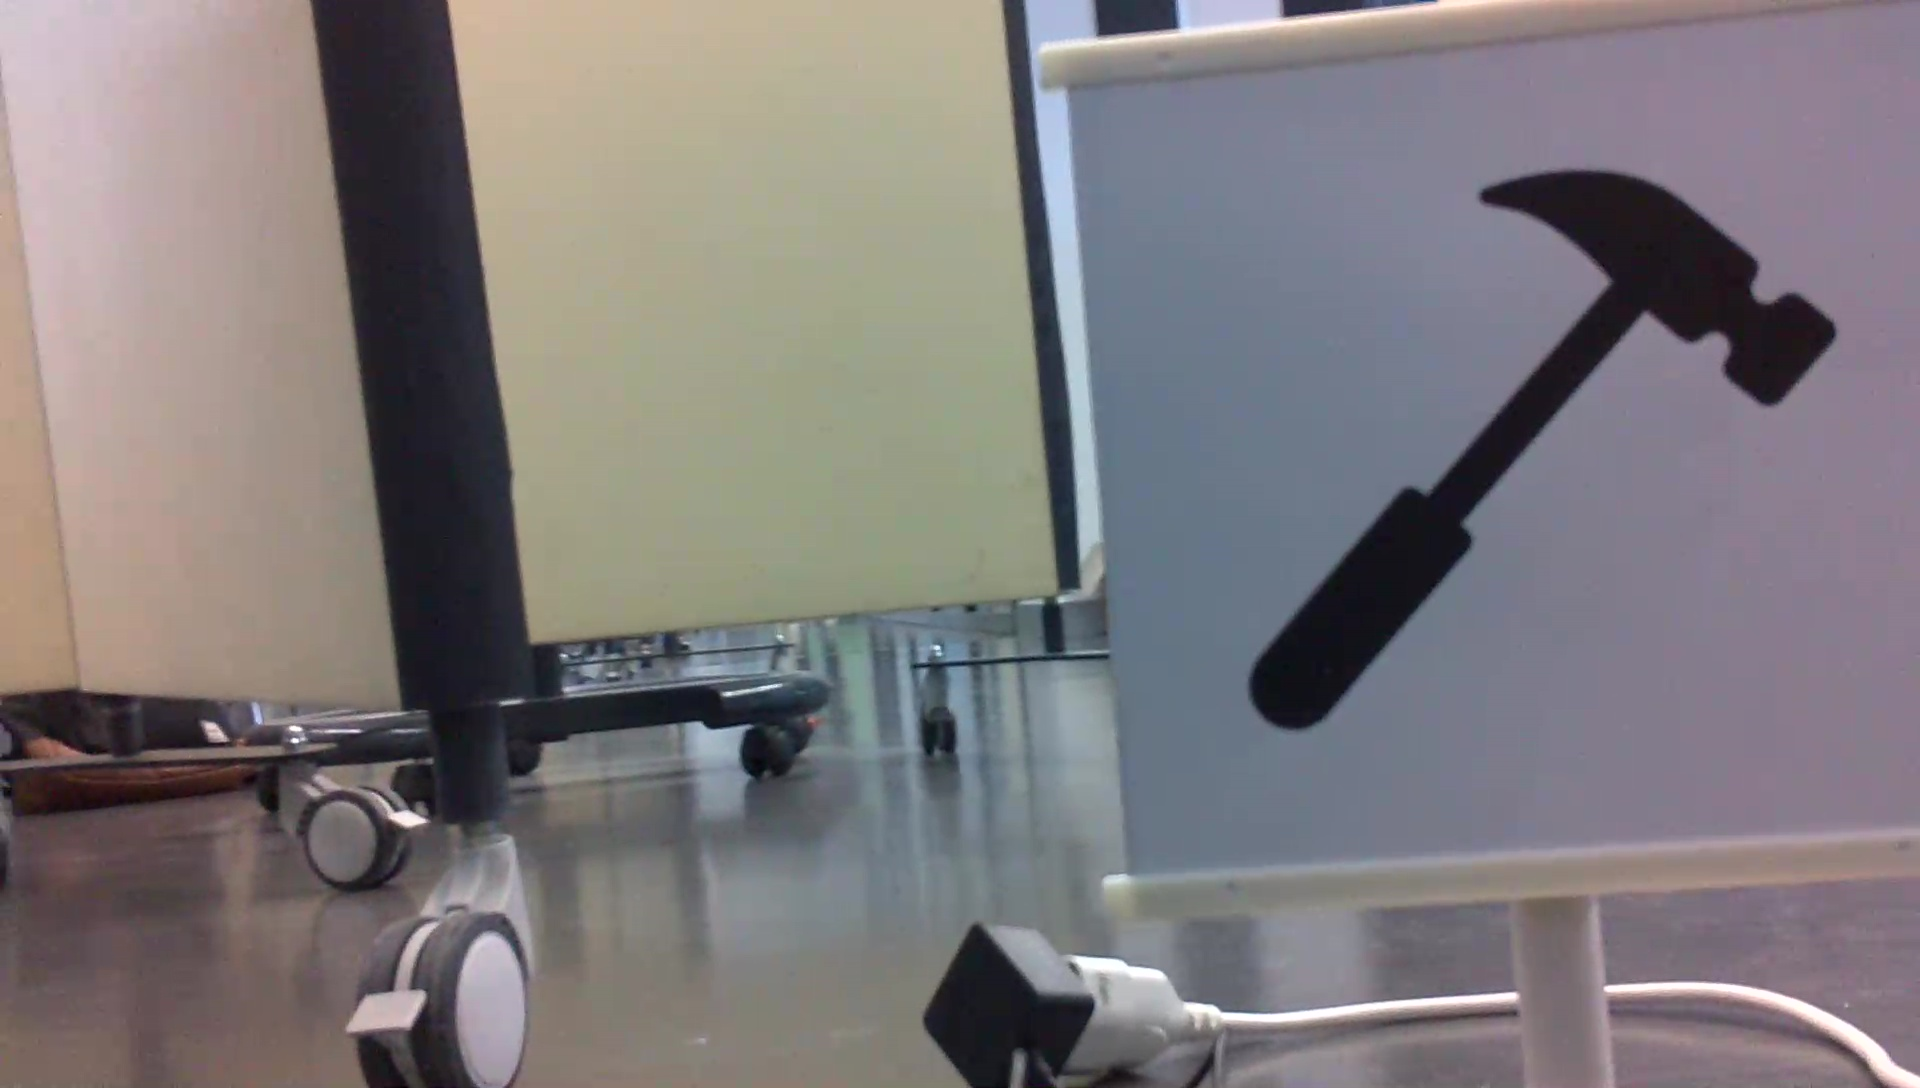hammer: (1237, 165, 1847, 735)
